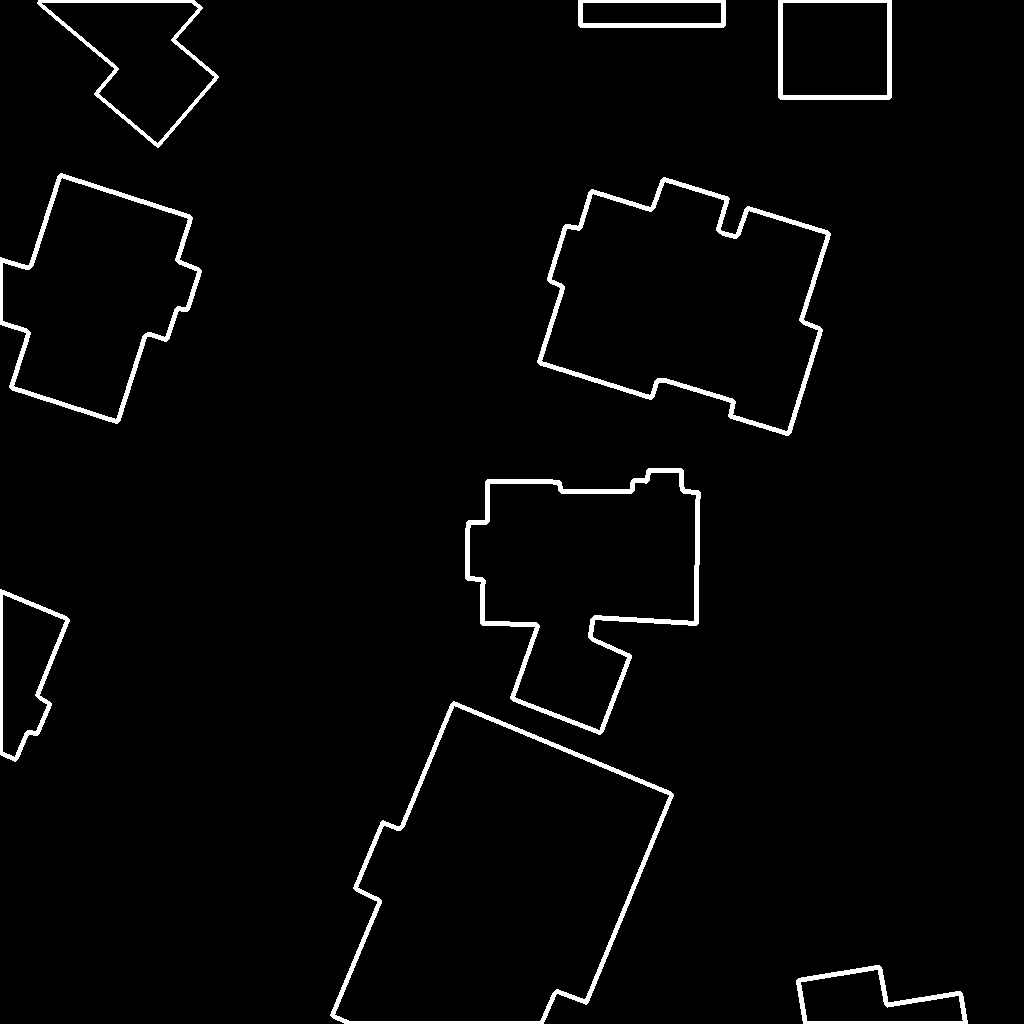building: (332, 703, 673, 1024), (539, 179, 830, 435), (467, 470, 699, 734), (0, 175, 201, 423), (39, 0, 218, 147), (0, 591, 69, 761), (780, 0, 891, 98), (798, 967, 967, 1024), (580, 0, 725, 26)
